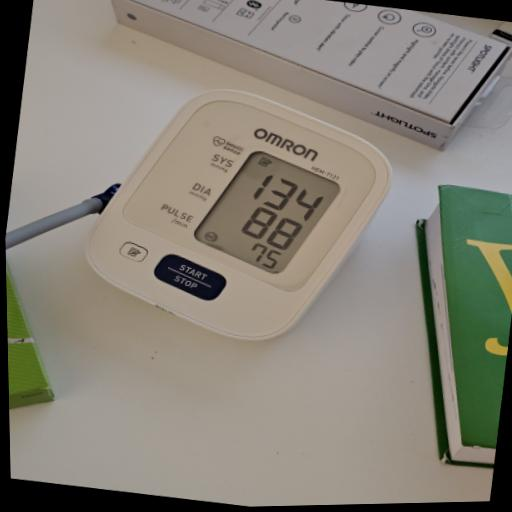lcd display: (187, 141, 347, 284)
